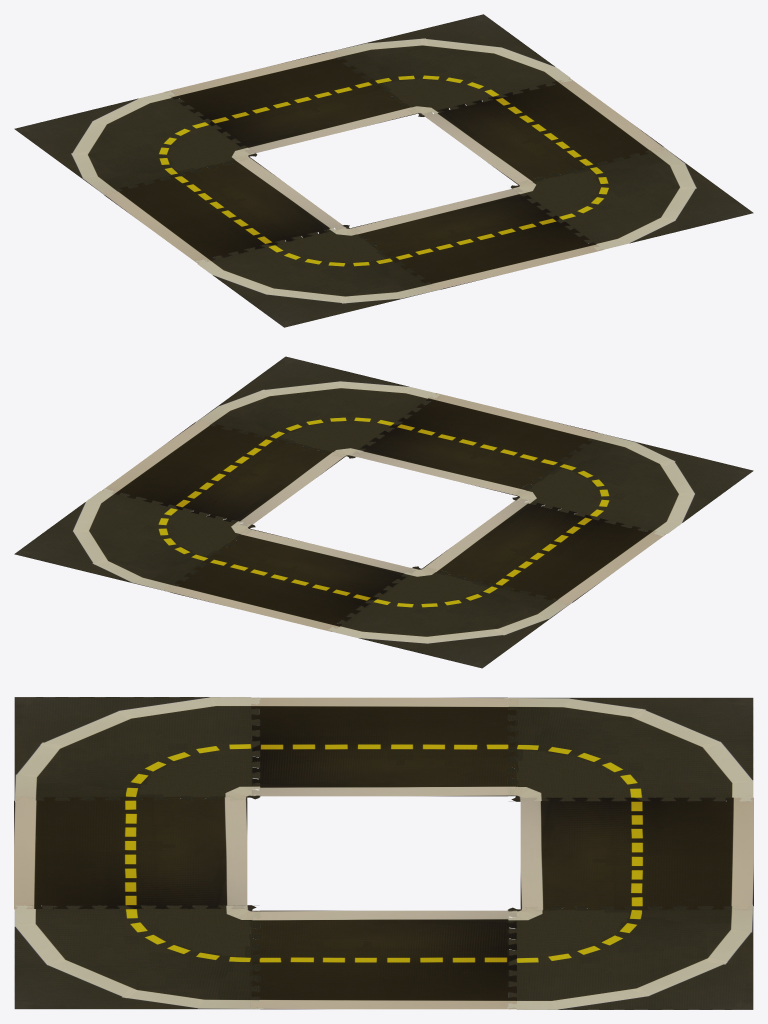
File: CircularRoad.glb
The picture shows the model from 3 angles, top to bottom: view 1: azimuth 30°, elevation 25°; view 2: azimuth 150°, elevation 25°; view 3: azimuth 270°, elevation 25°; orthographic projection. The views are drawn at different scales.
Parts seen in each view (by area): view 1: Plane.002; view 2: Plane.002; view 3: Plane.002.
Boxes of the visible parts, x1,y1,x2,y2 form: Plane.002: [14, 14, 753, 327]; Plane.002: [14, 356, 753, 668]; Plane.002: [14, 697, 753, 1009].
Size of the model in its own units: 1.73 by 0 by 1.73.
8 materials, 8 textured.
